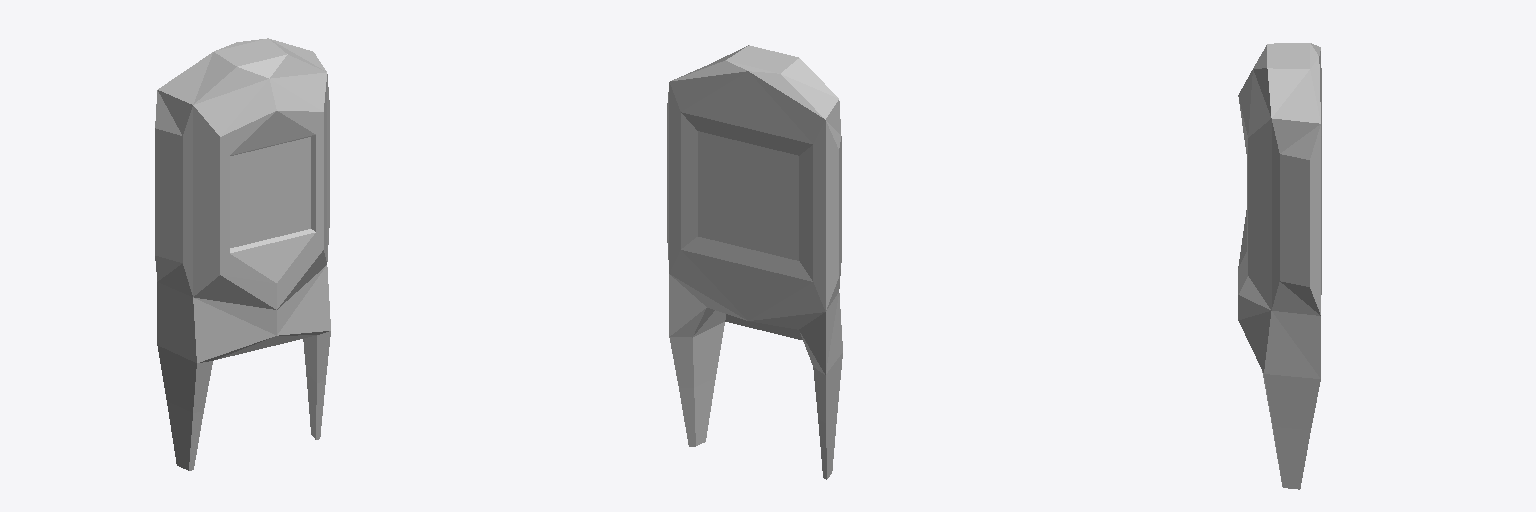
Rendered from expansion_bay_dock.obj.
The picture shows the model from 3 angles: view 1: azimuth 30°, elevation 25°; view 2: azimuth 150°, elevation 25°; view 3: azimuth 270°, elevation 25°; orthographic projection.
Visible parts, largest first — view 1: Cube; view 2: Cube; view 3: Cube.
Boxes of the visible parts, box(x1,y1,x2,y2) form: Cube: box(155, 38, 330, 470); Cube: box(667, 45, 842, 479); Cube: box(1238, 43, 1321, 489).
Bounding box in the file's own units: 1.87 × 4.16 × 0.7873.